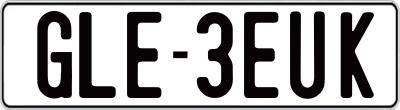3: (196, 11, 232, 99)
E: (124, 9, 159, 99), (241, 10, 277, 96)
G: (35, 9, 75, 98)
K: (341, 11, 377, 103)
L: (77, 9, 118, 98)
U: (287, 10, 326, 100)
